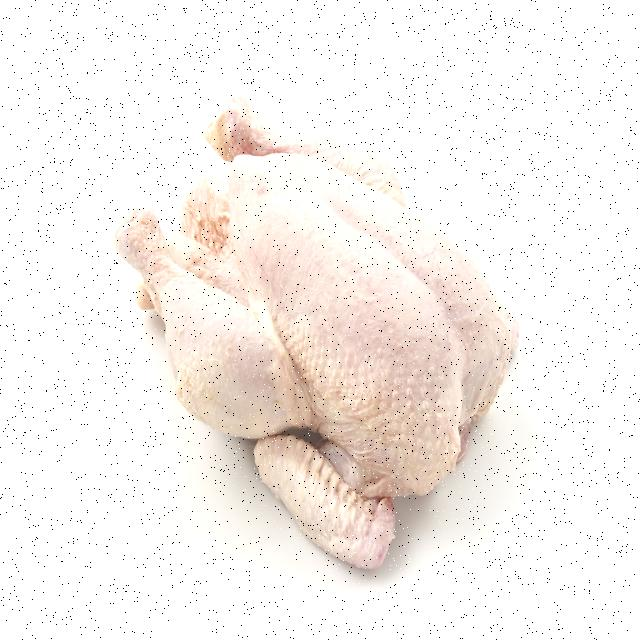Chicken: (165, 142, 486, 556)
